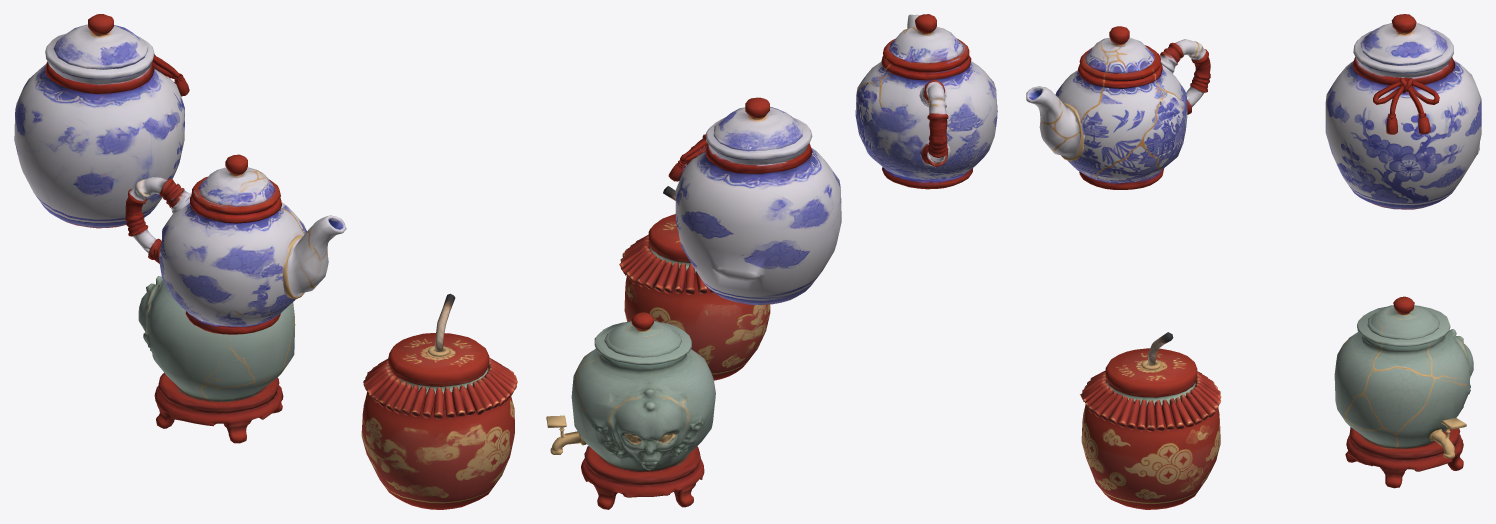
File: friar_celadon_props_tripo.glb
3 views of the same model, side by side, from view 1: azimuth 30°, elevation 25°; view 2: azimuth 150°, elevation 25°; view 3: azimuth 270°, elevation 25° (orthographic). The views are drawn at different scales.
Visible parts, largest first — view 1: tripo_node_8eafab07-c08e-4da7-a009-20bd0a451b55; view 2: tripo_node_8eafab07-c08e-4da7-a009-20bd0a451b55; view 3: tripo_node_8eafab07-c08e-4da7-a009-20bd0a451b55.
Part boxes in pixels (x1,y1,x2,y2): tripo_node_8eafab07-c08e-4da7-a009-20bd0a451b55: (14,14,517,509); tripo_node_8eafab07-c08e-4da7-a009-20bd0a451b55: (546,14,997,509); tripo_node_8eafab07-c08e-4da7-a009-20bd0a451b55: (1026,14,1481,509).
Size of the model in its own units: 0.8223 by 0.959 by 0.998.
Materials: 1 (1 with a texture image).
